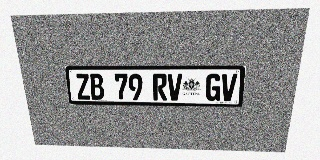7: (114, 74, 129, 100)
9: (128, 74, 143, 100)
B: (89, 74, 105, 100)
G: (205, 74, 222, 101)
R: (153, 74, 167, 100)
V: (220, 74, 237, 101), (168, 74, 182, 101)
Z: (75, 74, 91, 100)
